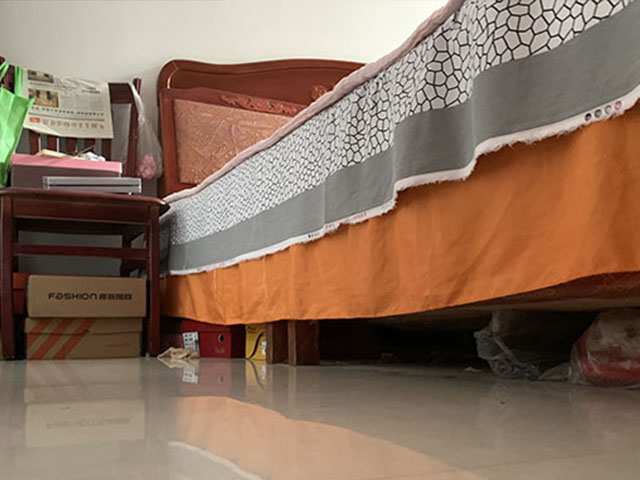bed: (158, 1, 640, 370)
stool: (1, 55, 172, 360)
